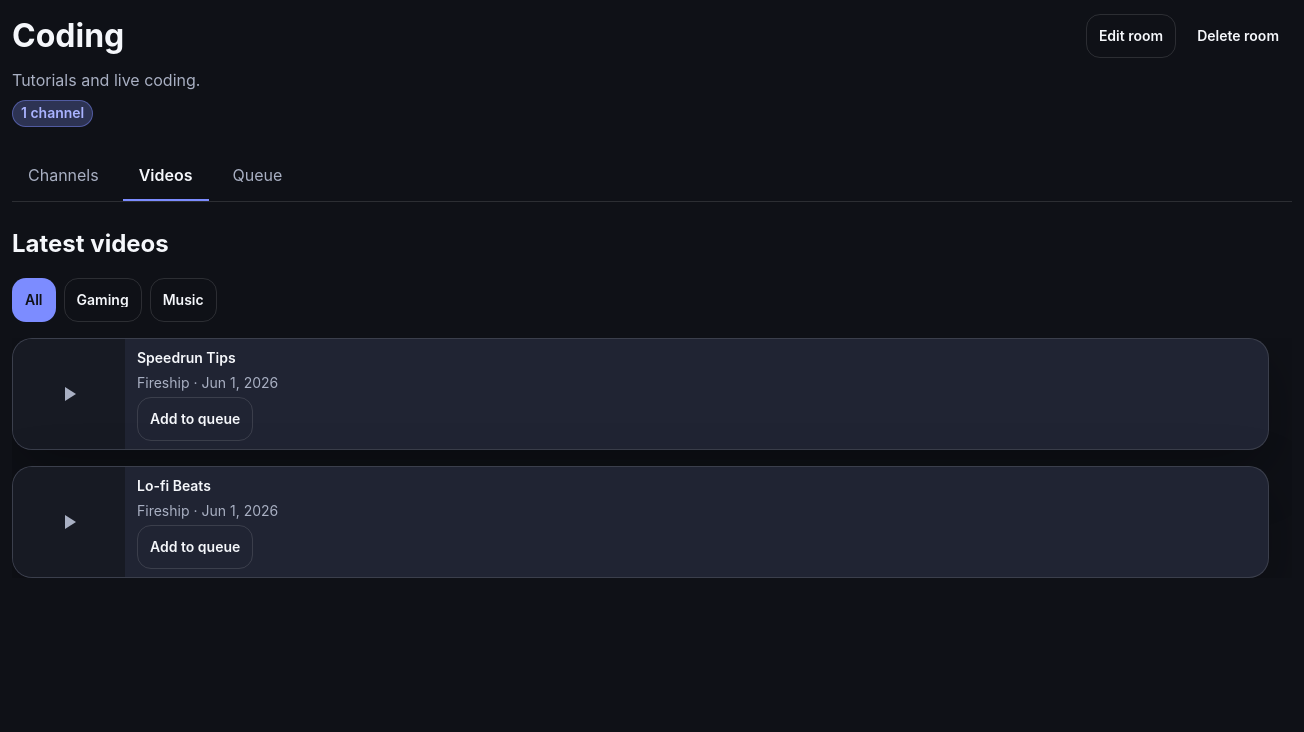
Scenario: RoomDetailPage › filters the video feed by category and back to All
The width and height of the screenshot is (1304, 732).
Click the button "Gaming": click(103, 300) top-left (64, 278), bottom-right (142, 322)
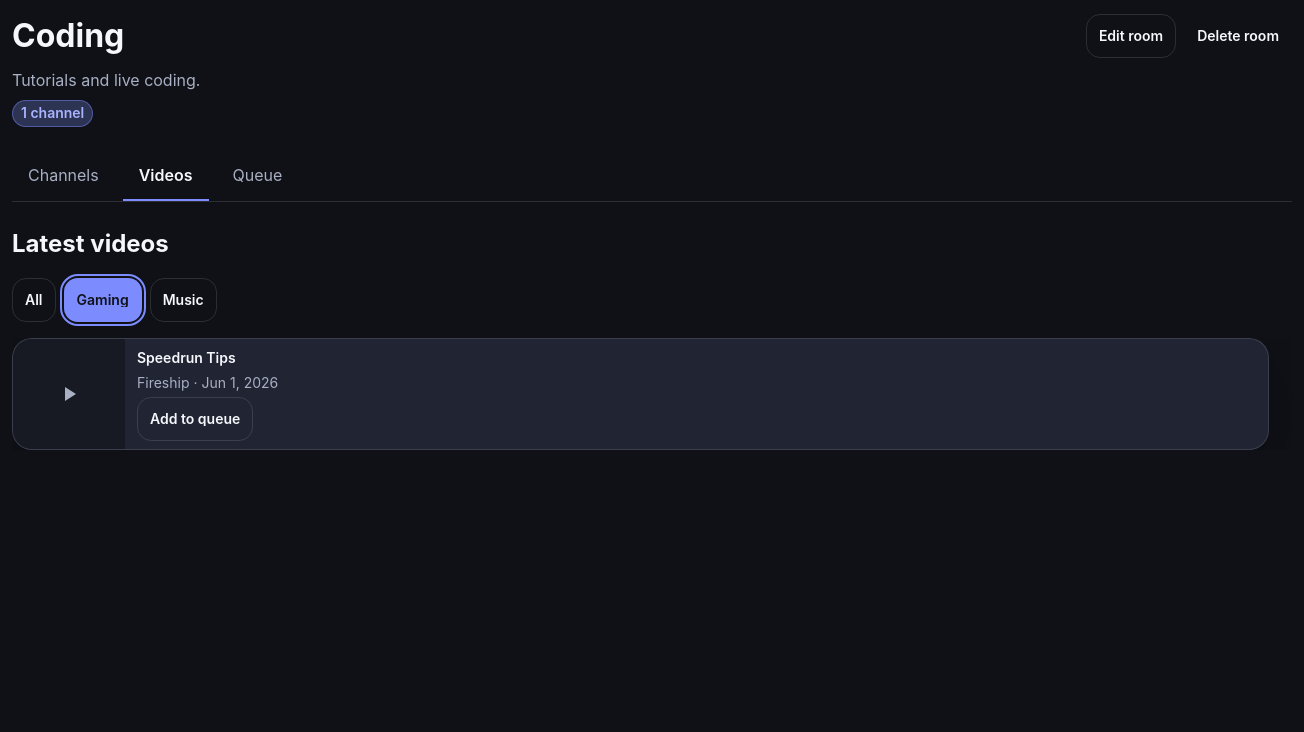
Check: the text "Speedrun Tips" is shown, box top-left (137, 349), bottom-right (236, 366)
Check: the text "Lo-fi Beats" is gone
Click the button "All": click(34, 300) top-left (12, 278), bottom-right (56, 322)
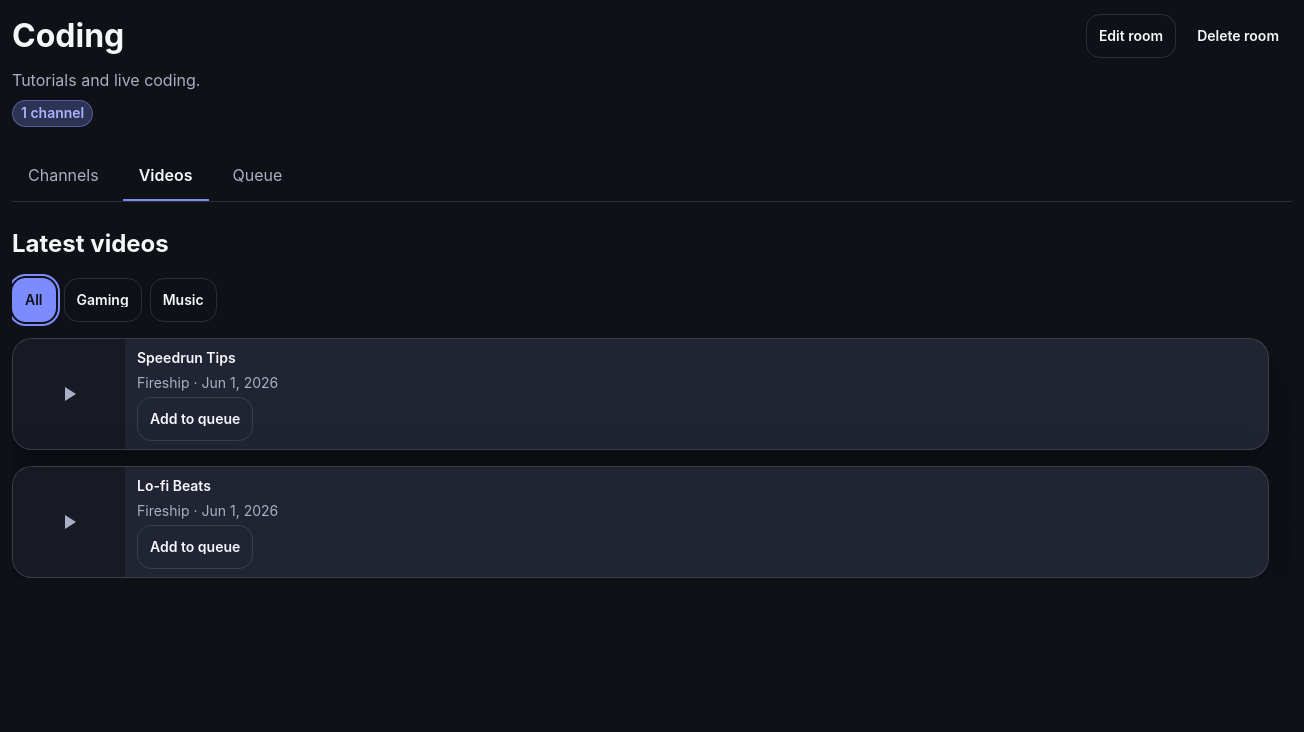
Check: the text "Lo-fi Beats" is shown, box top-left (137, 477), bottom-right (211, 494)
